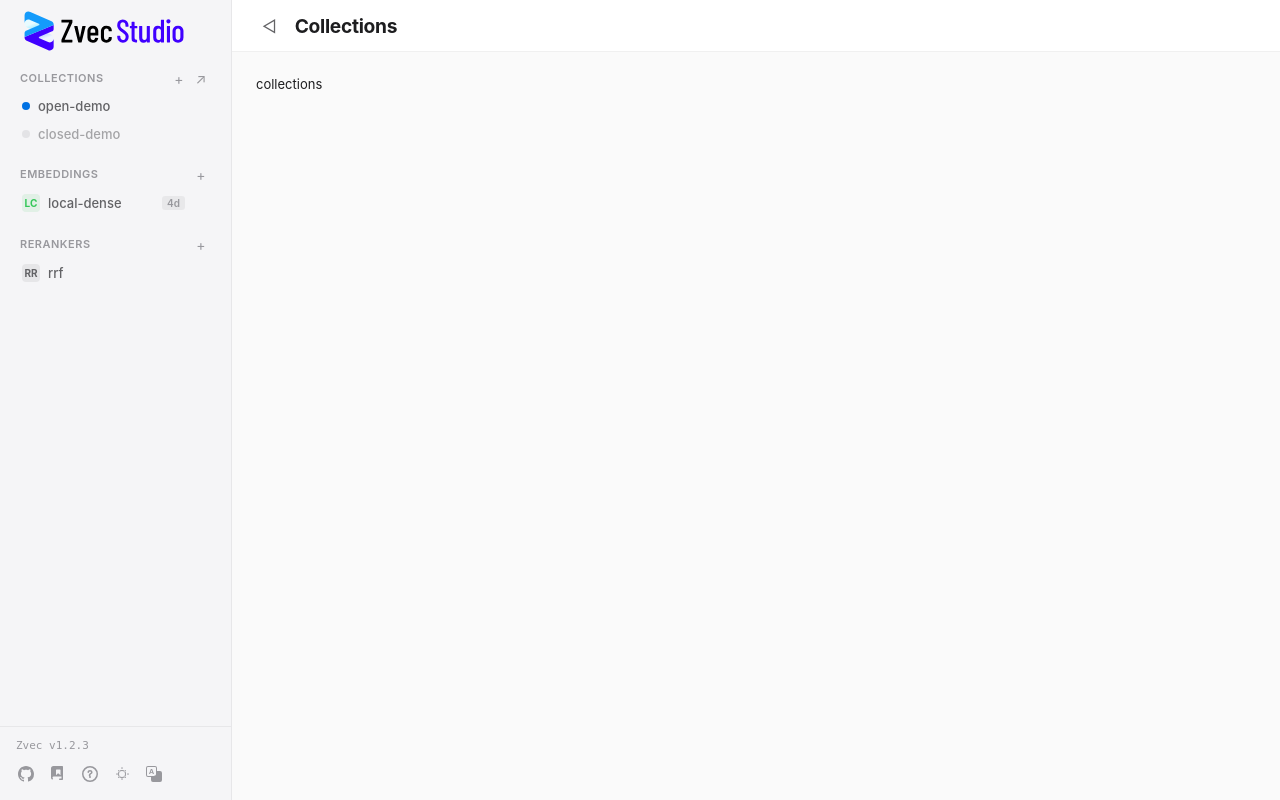
AppShell › opens global create dialogs from sidebar actions
# The "+" button toggles a menu holding the collection-level actions.
Click the button with test id "zv-collections-add" at (179, 78), box x1=169 y1=68 x2=189 y2=88
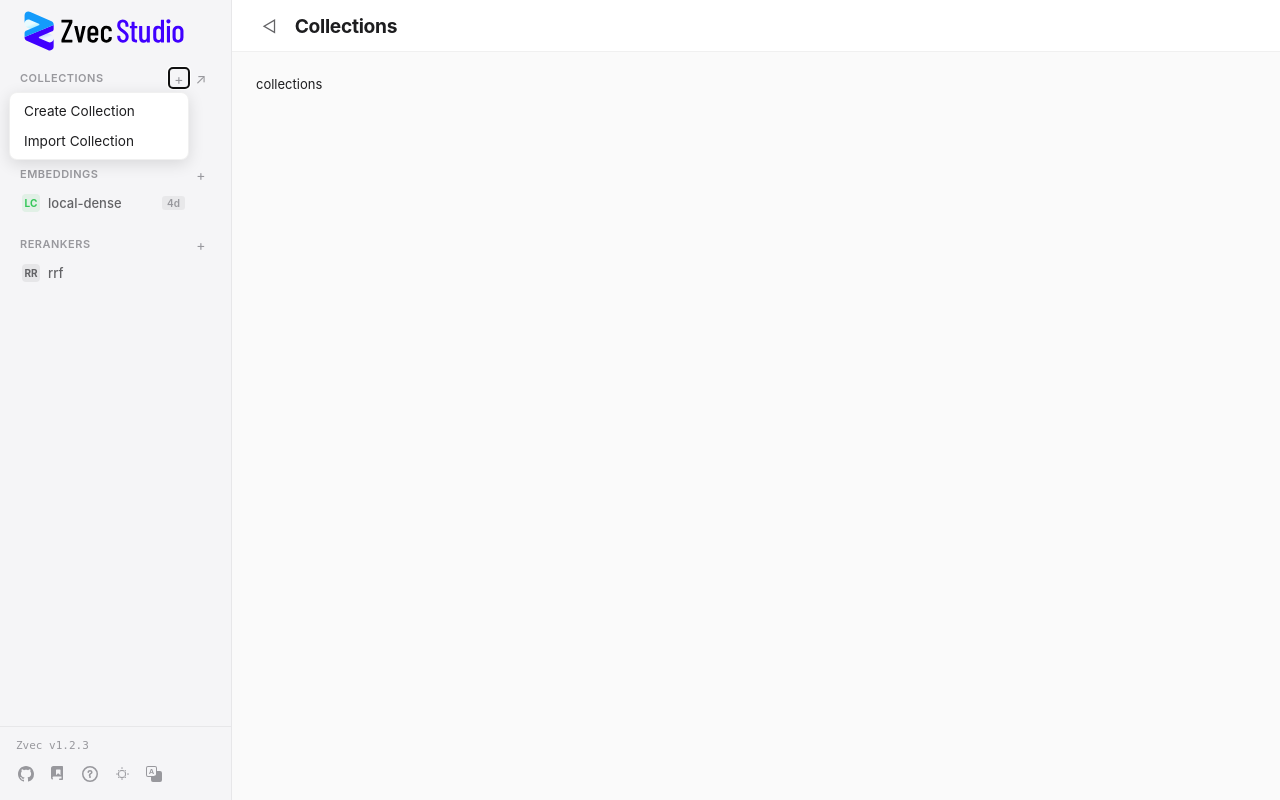
Click the menu item with test id "zv-collections-menu-create" at (99, 111), box x1=14 y1=97 x2=184 y2=125
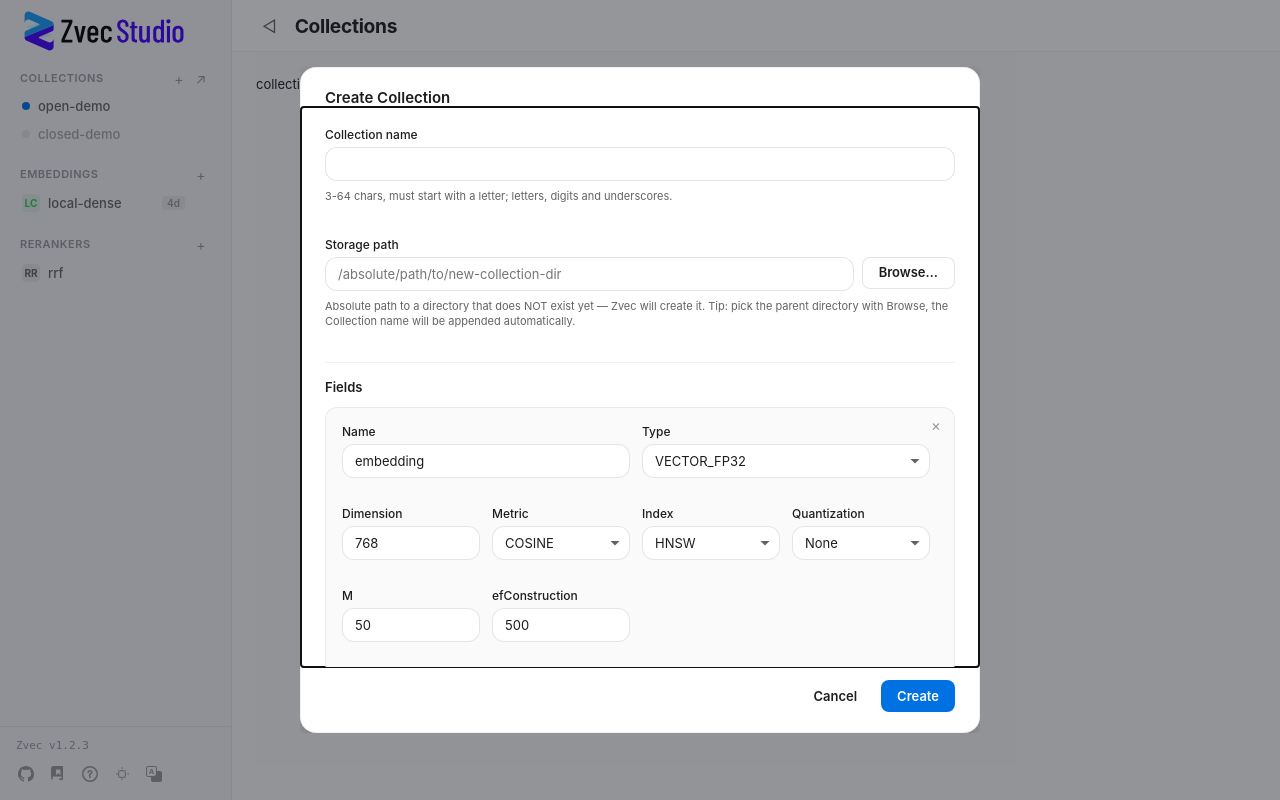
Check: the dialog "Create Collection" is shown, box x1=300 y1=67 x2=980 y2=733
Click the button "Cancel" at (835, 696), box x1=797 y1=680 x2=873 y2=712
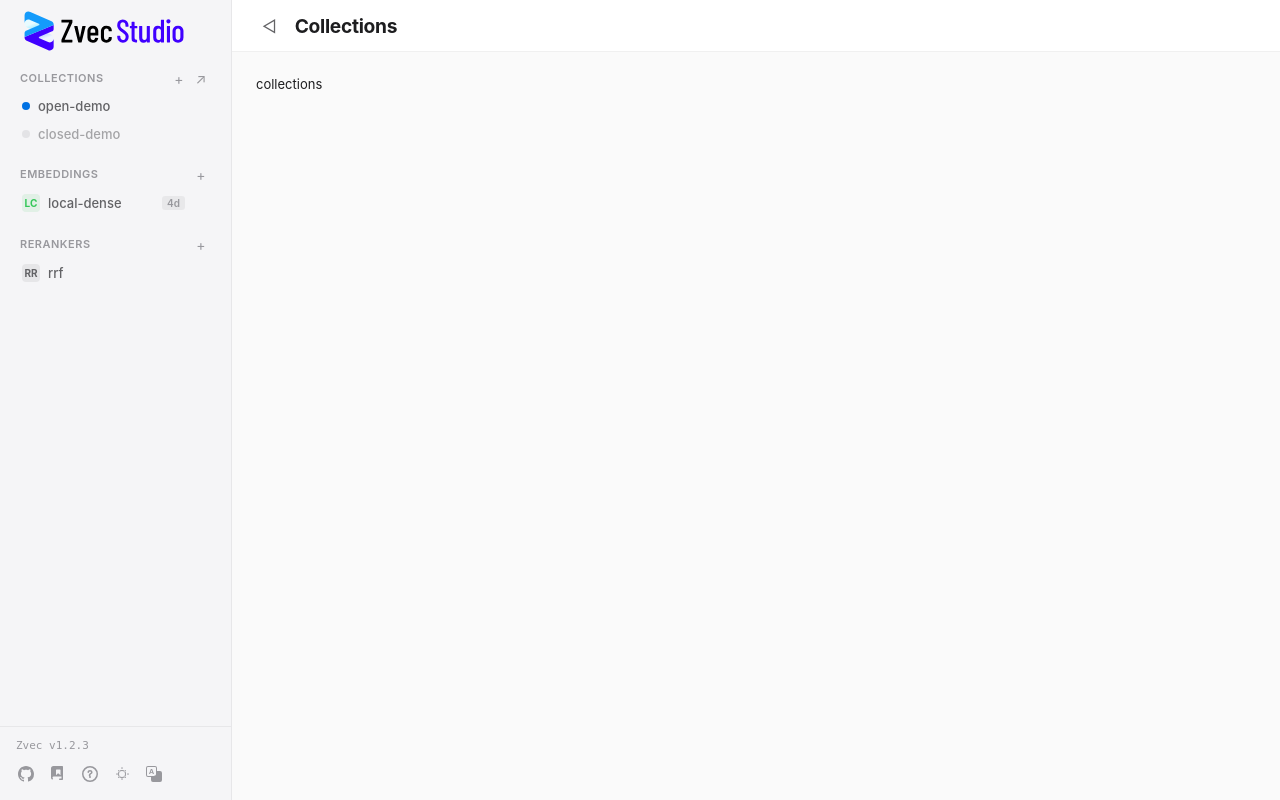
Click the button titled "Open existing" at (201, 78), box x1=191 y1=68 x2=211 y2=88
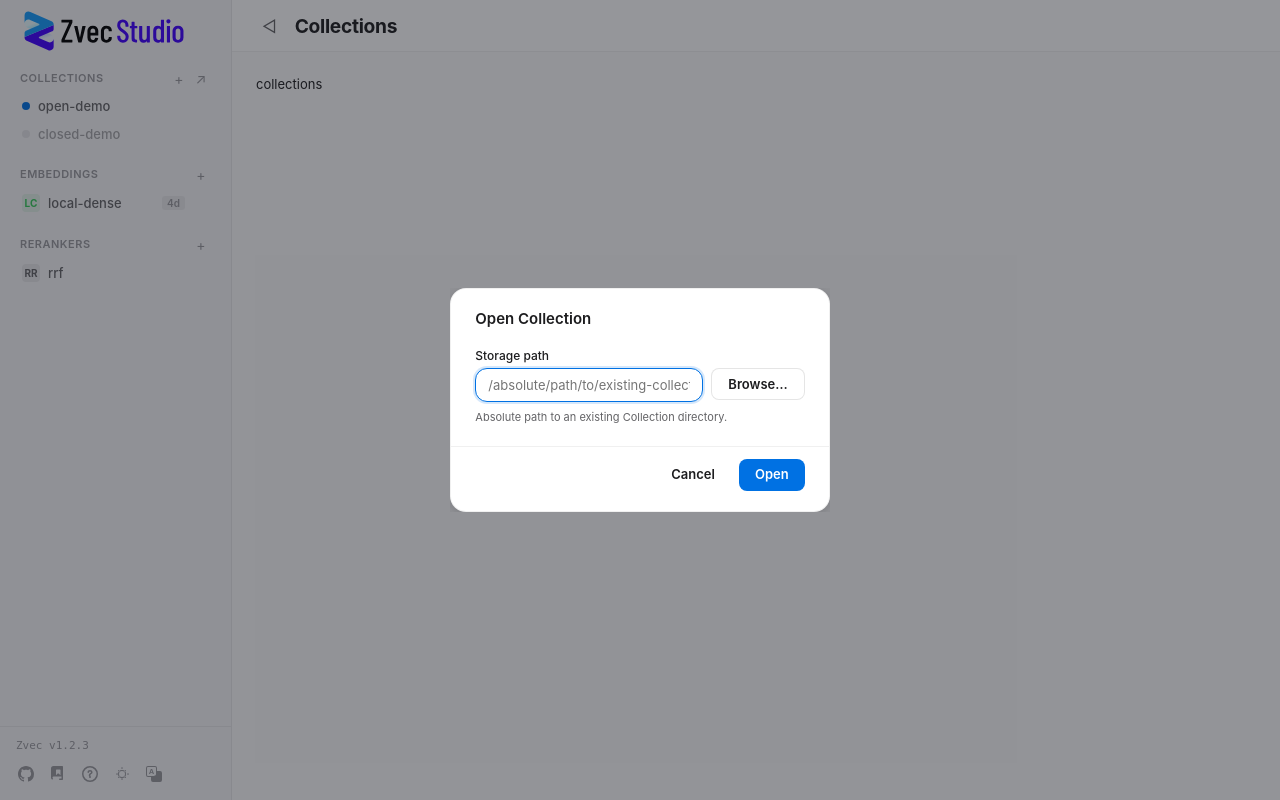
Check: the dialog "Open Collection" is shown, box x1=450 y1=288 x2=830 y2=512
